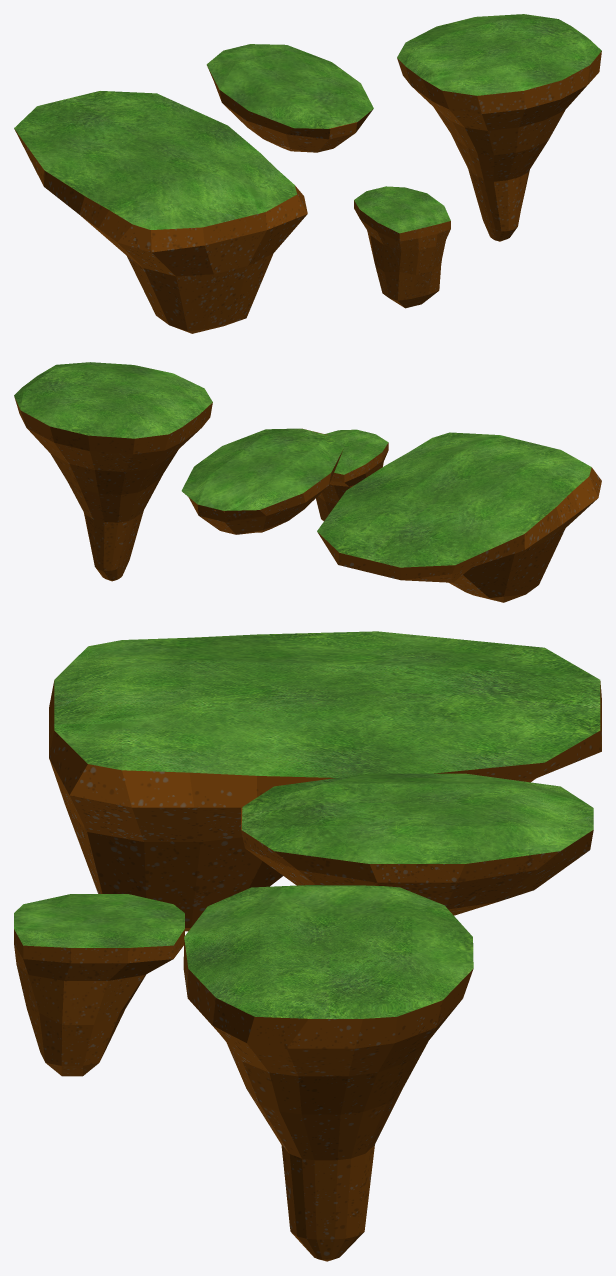
File: Small Islands.fbx
The picture shows the model from 3 angles, top to bottom: view 1: azimuth 30°, elevation 25°; view 2: azimuth 150°, elevation 25°; view 3: azimuth 270°, elevation 25°; orthographic projection. The views are drawn at different scales.
Visible parts, largest first — view 1: Small Island, Mini Island 3, Mini Island 2, Mini Island; view 2: Small Island, Mini Island 3, Mini Island 2, Mini Island; view 3: Small Island, Mini Island 3, Mini Island 2, Mini Island.
Boxes of the visible parts, x1,y1,x2,y2 form: Small Island: (14, 91, 307, 333); Mini Island 3: (397, 14, 601, 241); Mini Island 2: (206, 44, 373, 152); Mini Island: (354, 186, 450, 308); Small Island: (317, 432, 601, 602); Mini Island 3: (14, 362, 212, 581); Mini Island 2: (181, 428, 343, 534); Mini Island: (316, 429, 388, 520); Small Island: (49, 631, 601, 931); Mini Island 3: (183, 885, 473, 1261); Mini Island 2: (241, 773, 593, 915); Mini Island: (14, 894, 184, 1076).
Bounding box in the file's own units: 1688 × 602 × 994.
